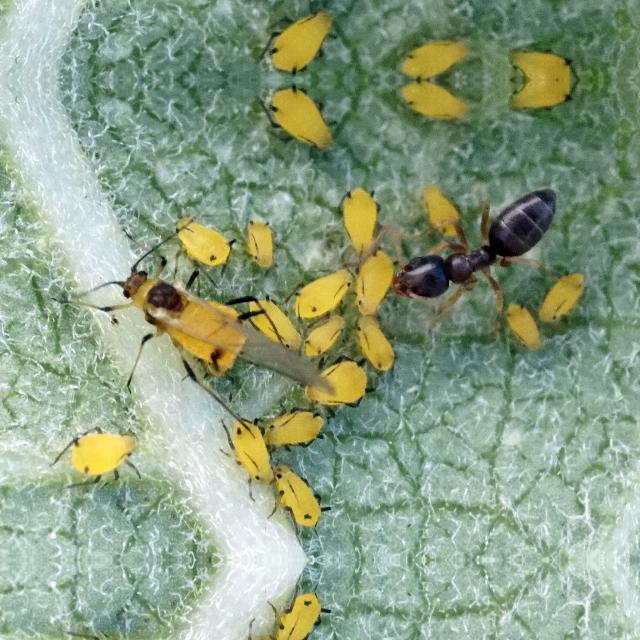Tapinoma: (364, 175, 586, 327)
